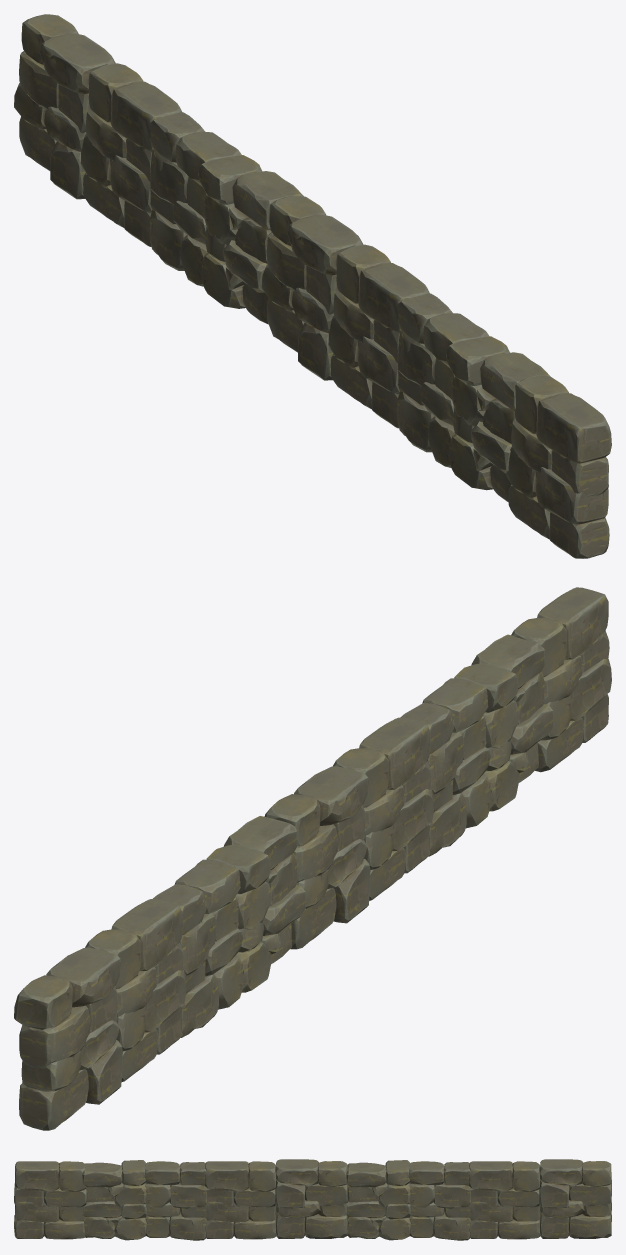
Rendered from Ruins_Wall.fbx.
3 views of the same model, one above another, from view 1: azimuth 30°, elevation 25°; view 2: azimuth 150°, elevation 25°; view 3: azimuth 270°, elevation 25° (orthographic). The views are drawn at different scales.
Visible parts, largest first — view 1: lowWall3__3_, lowWall4__2_, lowWall4__2__1, lowWall3__3__1, lowWall3__2__1, lowWall3__2_, lowWall1__10__1, lowWall1__10_, lowWall2__5__1, lowWall2__5_, lowWall3__2__2, lowWall3__2__3 (+6 smaller); view 2: lowWall4__2__1, lowWall4__2_, lowWall4__2__3, lowWall3__3_, lowWall3__2_, lowWall3__2__1, lowWall1__10__1, lowWall1__10_, lowWall2__5__1, lowWall2__5_, lowWall4__2__2, lowWall3__3__1 (+6 smaller); view 3: lowWall4__2__1, lowWall4__2_, lowWall3__3_, lowWall3__2__1, lowWall3__2_, lowWall2__5__1, lowWall2__5_, lowWall1__10__1, lowWall1__10_, lowWall4__2__3, lowWall4__2__2, lowWall3__3__1 (+6 smaller).
Boxes of the visible parts, bbox=[...] form: lowWall3__3_: bbox=[511, 375, 611, 496]; lowWall4__2_: bbox=[266, 195, 363, 314]; lowWall4__2__1: bbox=[19, 14, 115, 133]; lowWall3__3__1: bbox=[506, 446, 609, 558]; lowWall3__2__1: bbox=[85, 63, 181, 181]; lowWall3__2_: bbox=[333, 244, 429, 362]; lowWall1__10__1: bbox=[198, 155, 303, 263]; lowWall1__10_: bbox=[446, 336, 550, 443]; lowWall2__5__1: bbox=[150, 111, 241, 217]; lowWall2__5_: bbox=[397, 293, 489, 399]; lowWall3__2__2: bbox=[328, 315, 399, 428]; lowWall3__2__3: bbox=[80, 134, 152, 246]; lowWall4__2__1: bbox=[14, 947, 120, 1068]; lowWall4__2_: bbox=[264, 766, 368, 882]; lowWall4__2__3: bbox=[19, 1020, 122, 1130]; lowWall3__3_: bbox=[511, 587, 609, 704]; lowWall3__2_: bbox=[332, 717, 431, 835]; lowWall3__2__1: bbox=[85, 899, 183, 1017]; lowWall1__10__1: bbox=[206, 816, 297, 929]; lowWall1__10_: bbox=[454, 634, 545, 748]; lowWall2__5__1: bbox=[153, 859, 240, 975]; lowWall2__5_: bbox=[400, 678, 488, 794]; lowWall4__2__2: bbox=[290, 839, 370, 949]; lowWall3__3__1: bbox=[535, 659, 611, 772]; lowWall4__2__1: bbox=[539, 1159, 611, 1208]; lowWall4__2_: bbox=[275, 1159, 347, 1208]; lowWall3__3_: bbox=[14, 1161, 86, 1207]; lowWall3__2__1: bbox=[469, 1161, 540, 1207]; lowWall3__2_: bbox=[205, 1161, 275, 1207]; lowWall2__5__1: bbox=[408, 1161, 470, 1208]; lowWall2__5_: bbox=[144, 1161, 206, 1208]; lowWall1__10__1: bbox=[346, 1160, 410, 1207]; lowWall1__10_: bbox=[82, 1160, 146, 1207]; lowWall4__2__3: bbox=[539, 1200, 611, 1238]; lowWall4__2__2: bbox=[275, 1200, 347, 1238]; lowWall3__3__1: bbox=[14, 1201, 85, 1239].
Size of the model in its own units: 111 by 281 by 2095.
